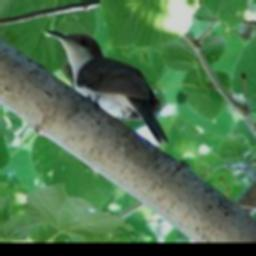Cuckoo: (43, 28, 171, 146)
